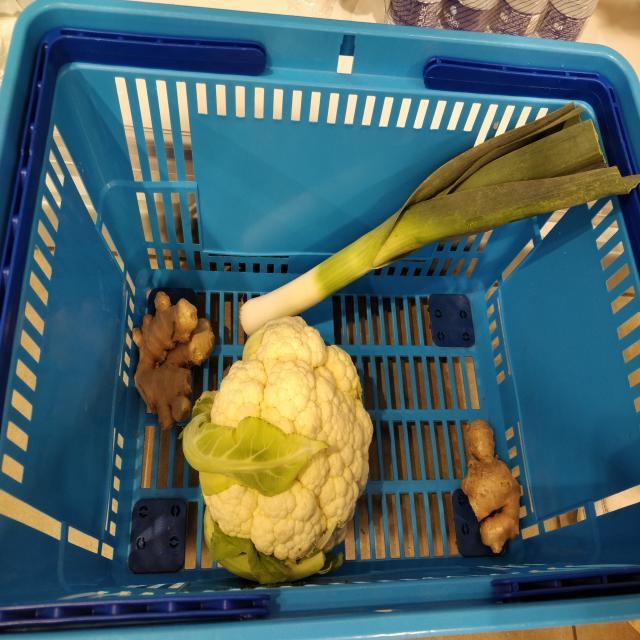cauliflower: (186, 318, 374, 560)
ginger: (132, 292, 215, 431), (461, 420, 523, 554)
leek: (239, 103, 640, 334)
